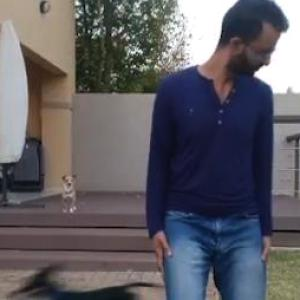follow: (1, 0, 180, 299), (148, 0, 284, 299)
